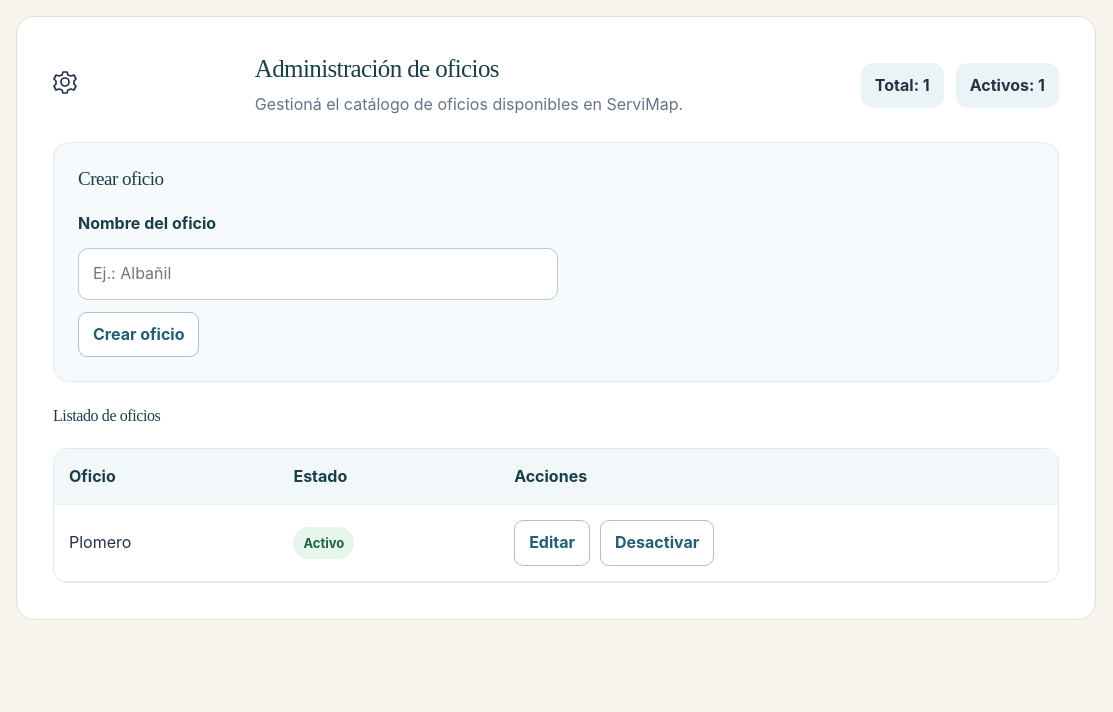
it: Administración remota de oficios › no persiste el catálogo en localStorage
Expected: the text "Plomero" is shown, top-left (54, 505), bottom-right (278, 581)
Click the button with aria-label "Desactivar Plomero".
click(657, 543)  # box top-left (600, 520), bottom-right (714, 566)
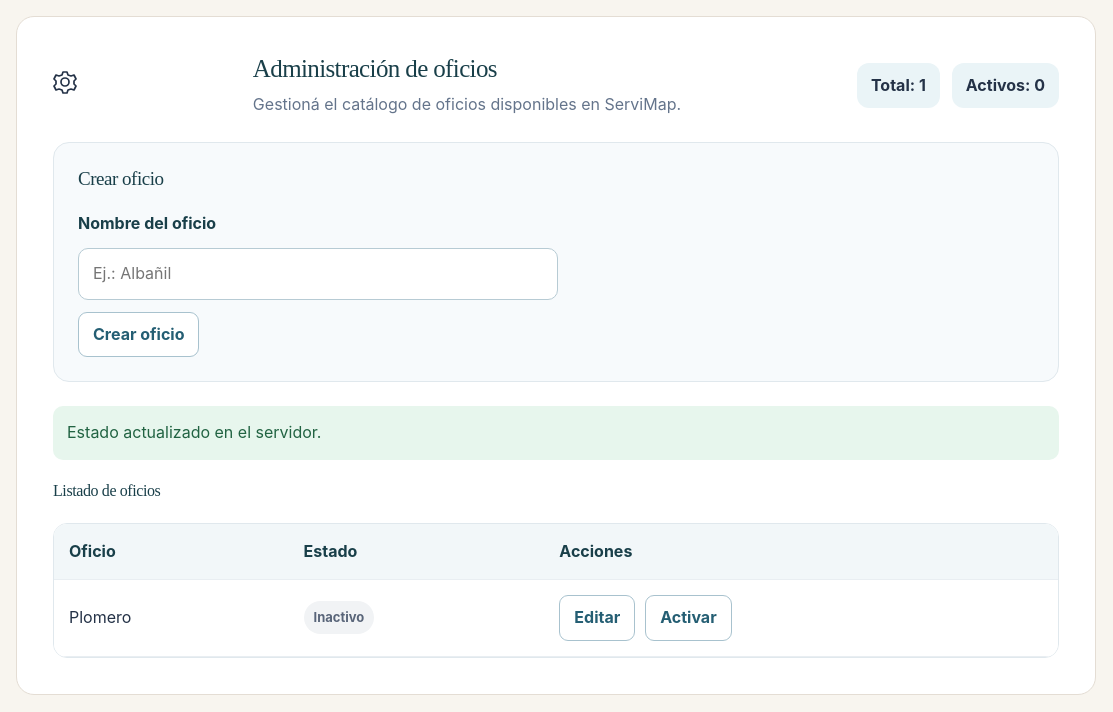
Expected: the text "Inactivo" is shown, top-left (304, 602), bottom-right (374, 634)
